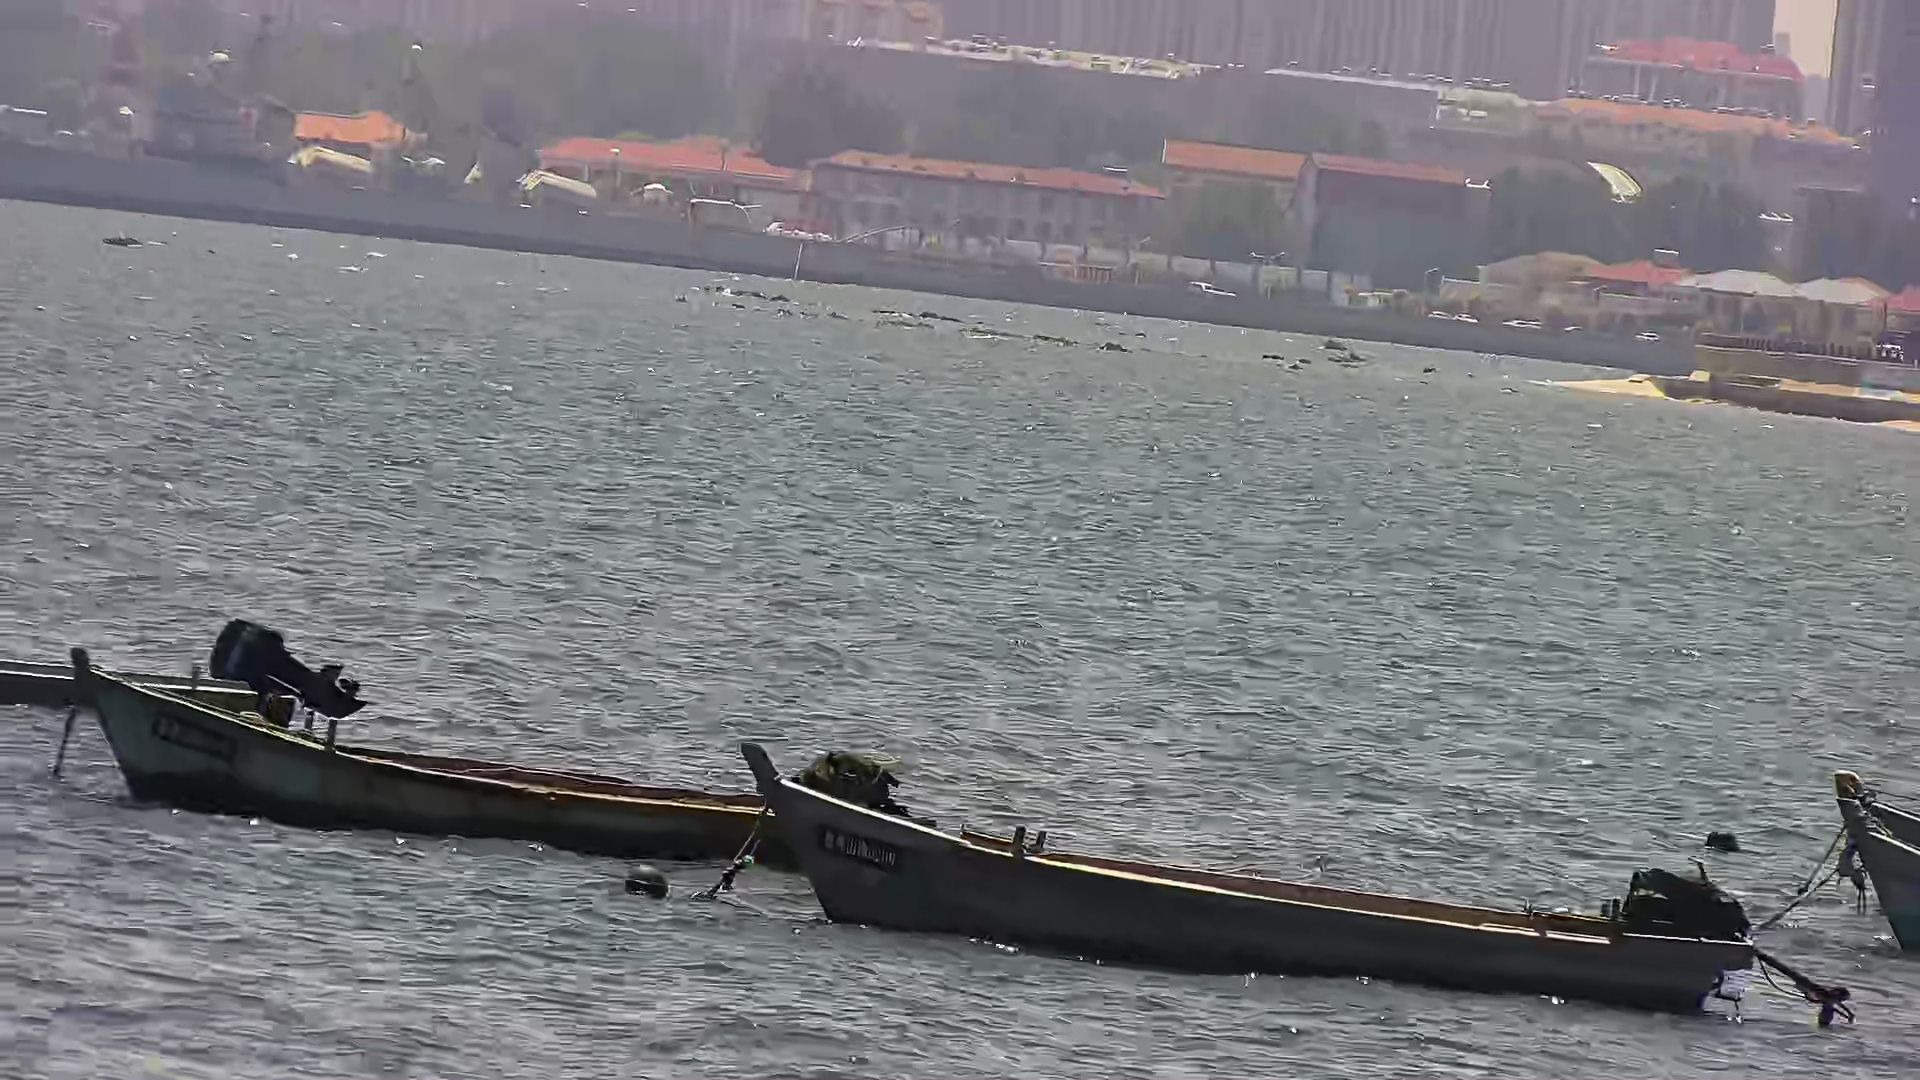ball: (617, 856, 674, 903), (1702, 814, 1746, 862)
boat: (738, 733, 1844, 1007), (47, 626, 781, 866)
rock: (873, 309, 948, 338), (1026, 324, 1093, 352), (968, 316, 1027, 345), (1327, 349, 1374, 375), (823, 302, 858, 334), (733, 276, 770, 302), (1098, 331, 1139, 355), (1313, 327, 1352, 352), (1254, 340, 1288, 367), (918, 302, 960, 322)
rubbish: (96, 224, 157, 249)
